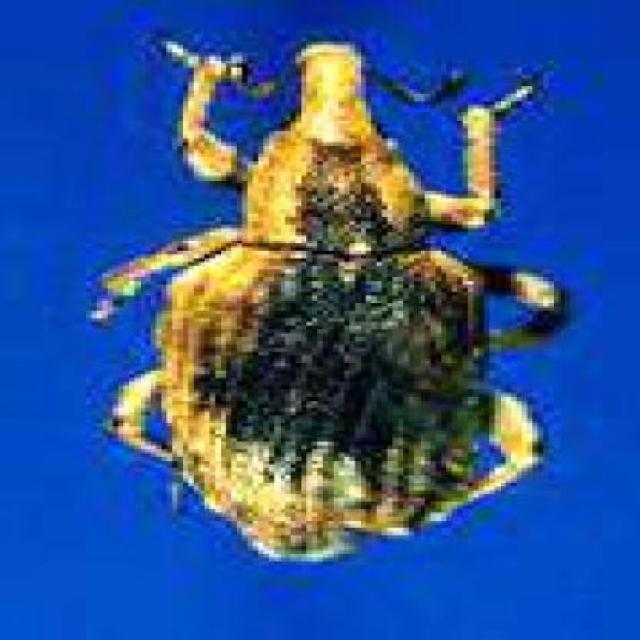rice-bug: (99, 31, 562, 568)
